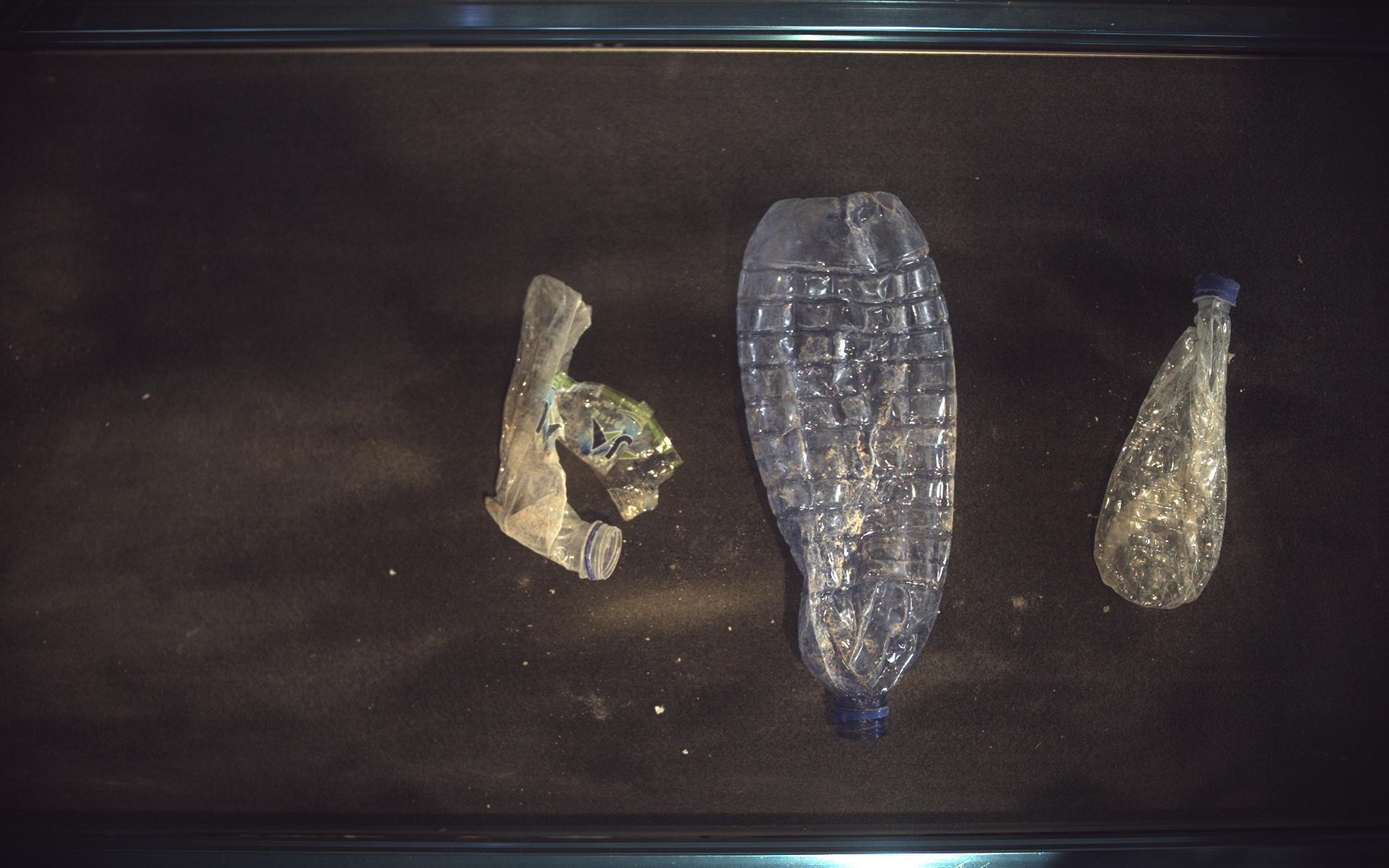general_w: (739, 191, 959, 741), (486, 275, 682, 581), (1097, 274, 1243, 610)
